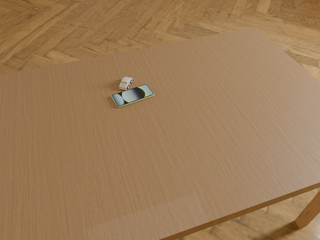phone: (112, 84, 154, 107)
toy_car: (119, 77, 132, 91)
